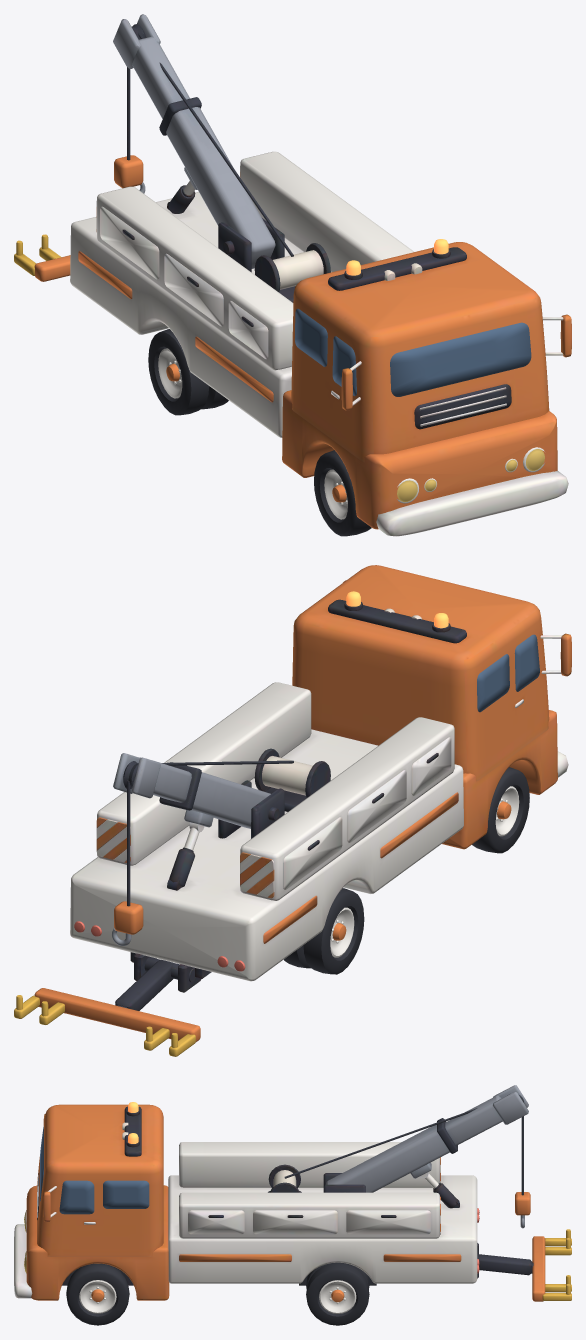
Rendered from tow-truck.glb.
3 renders of one model, top to bottom at view 1: azimuth 30°, elevation 25°; view 2: azimuth 150°, elevation 25°; view 3: azimuth 270°, elevation 25°, orthographic. The views are drawn at different scales.
Visible parts, largest first — view 1: tow-truck_body, tow-truck_boom, tow-truck_windows, tow-truck_wheel_rr, tow-truck_wheel_fr, tow-truck_underlift, tow-truck_hook, tow-truck_headlights; view 2: tow-truck_body, tow-truck_boom, tow-truck_underlift, tow-truck_wheel_rr, tow-truck_wheel_fr, tow-truck_windows, tow-truck_hook; view 3: tow-truck_body, tow-truck_boom, tow-truck_wheel_rl, tow-truck_wheel_fl, tow-truck_underlift, tow-truck_windows, tow-truck_hook.
Part boxes in pixels (<box>): tow-truck_body: <box>70,151,571,536</box>; tow-truck_boom: <box>113,14,293,268</box>; tow-truck_windows: <box>294,308,531,396</box>; tow-truck_wheel_rr: <box>148,329,228,415</box>; tow-truck_wheel_fr: <box>314,450,371,536</box>; tow-truck_underlift: <box>14,234,70,281</box>; tow-truck_hook: <box>114,67,145,193</box>; tow-truck_headlights: <box>397,447,544,503</box>; tow-truck_body: <box>70,565,571,992</box>; tow-truck_boom: <box>113,753,293,850</box>; tow-truck_underlift: <box>14,957,200,1056</box>; tow-truck_wheel_rr: <box>284,888,364,974</box>; tow-truck_wheel_fr: <box>472,767,529,853</box>; tow-truck_windows: <box>477,634,539,712</box>; tow-truck_hook: <box>112,780,143,945</box>; tow-truck_body: <box>14,1104,478,1300</box>; tow-truck_boom: <box>284,1085,528,1192</box>; tow-truck_wheel_rl: <box>306,1262,369,1325</box>; tow-truck_wheel_fl: <box>66,1263,129,1325</box>; tow-truck_underlift: <box>477,1229,571,1301</box>; tow-truck_windows: <box>40,1126,149,1214</box>; tow-truck_hook: <box>515,1116,530,1228</box>.
Size of the model in its own units: 2.69 by 3.24 by 7.91.
Materials: 11 (4 with a texture image).
